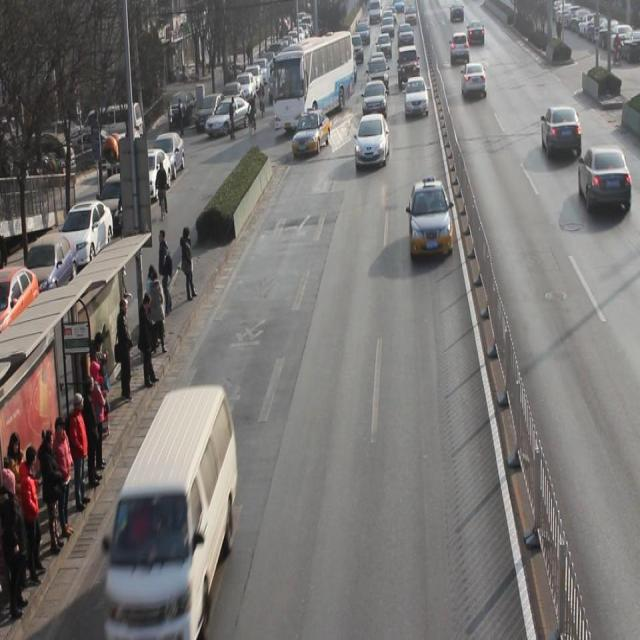car: (579, 145, 632, 215), (409, 182, 454, 260), (541, 107, 583, 160), (354, 115, 390, 172), (291, 112, 331, 156), (404, 76, 429, 120), (362, 80, 388, 121), (398, 46, 421, 90), (461, 62, 487, 100), (368, 56, 390, 94), (450, 32, 471, 66)
truck: (103, 383, 238, 630)
van: (272, 32, 352, 134)
